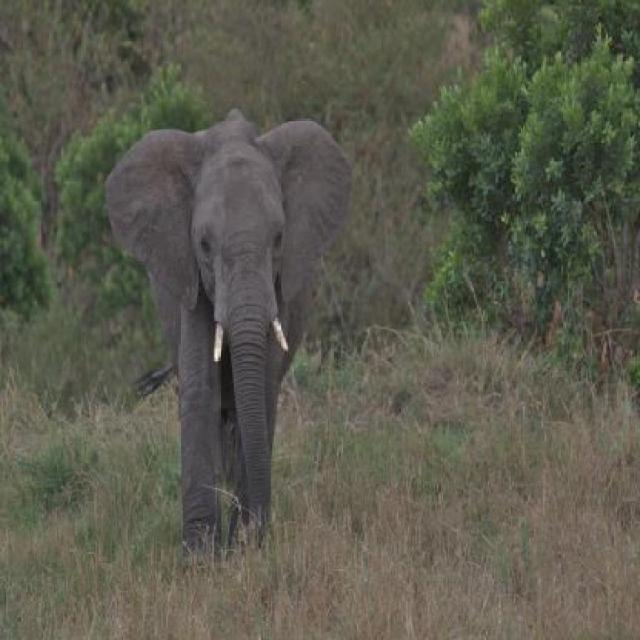Elephant: (102, 102, 355, 561)
